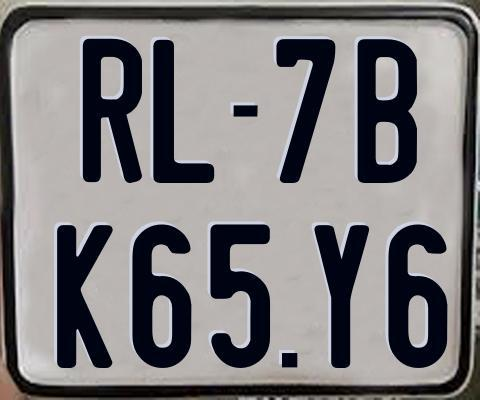5: (210, 222, 273, 370)
6: (387, 223, 452, 372), (129, 222, 193, 369)
7: (273, 38, 334, 185)
B: (357, 38, 421, 183)
K: (55, 222, 116, 368)
L: (150, 40, 217, 184)
R: (80, 36, 141, 183)
Y: (311, 225, 371, 371)
